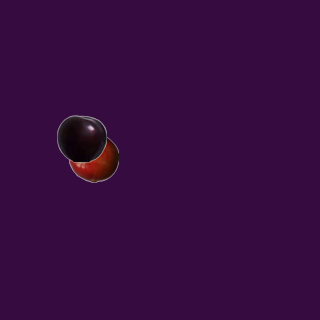Apple Braeburn: (68, 132, 118, 182)
Cherry Wax Black: (56, 113, 106, 163)
